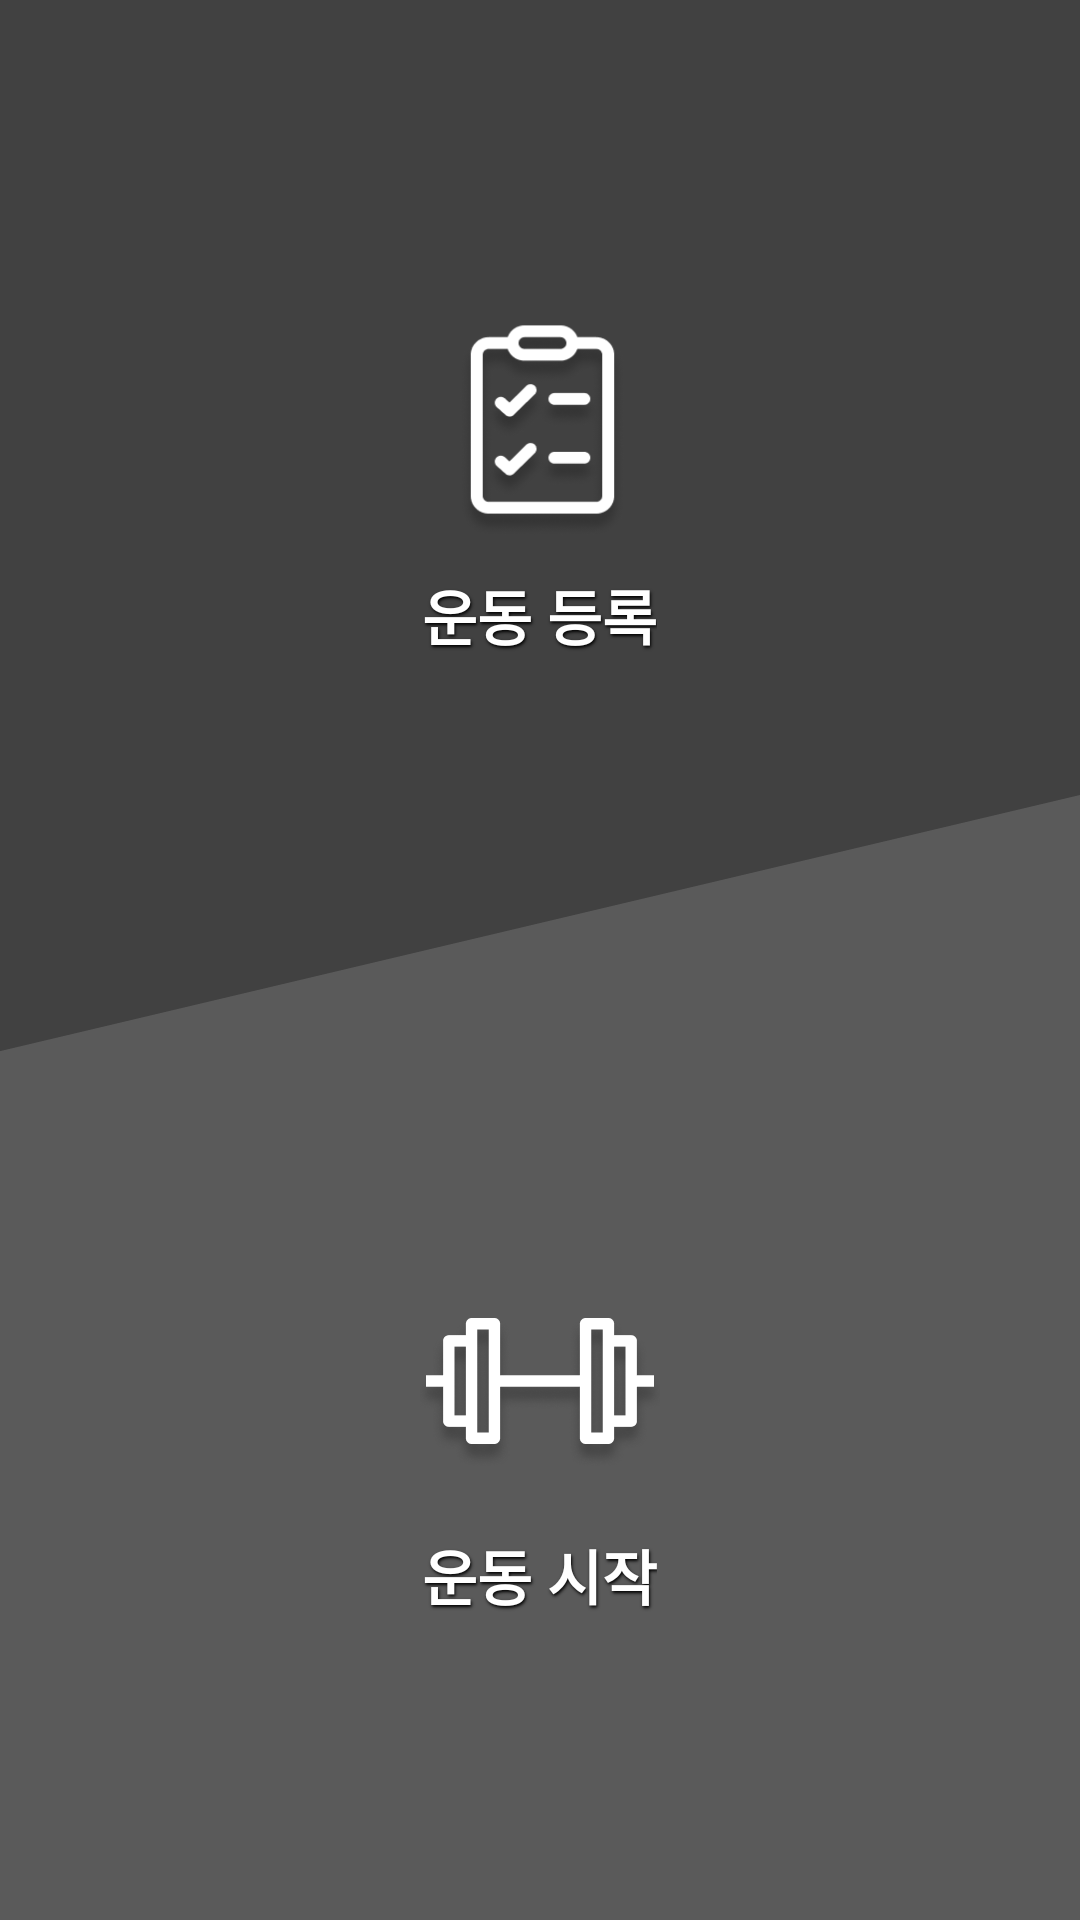

Named icons in this screenshot (1080 × 1920) and their bounding boxes, bbox=(x1, y1, x2, y2):
list: bbox=(470, 325, 615, 514)
weight: bbox=(426, 1318, 654, 1444)
